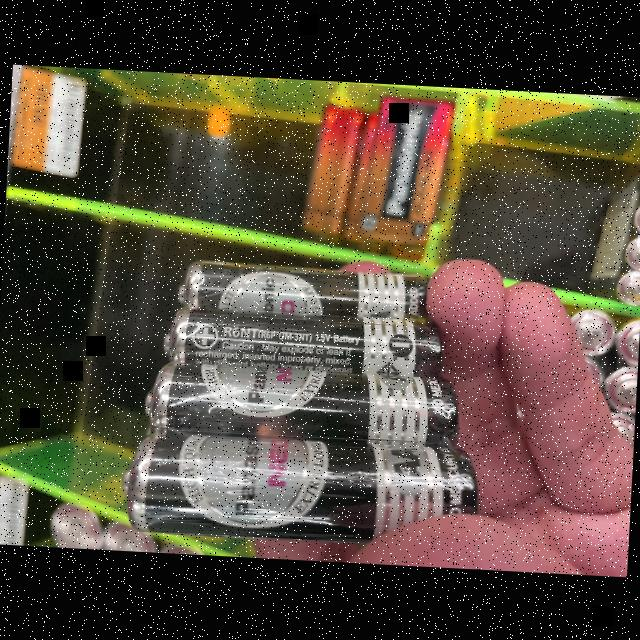battery: (119, 422, 485, 539), (128, 355, 464, 438), (303, 86, 445, 259), (562, 151, 640, 447), (157, 299, 447, 372), (170, 258, 427, 317), (39, 474, 214, 554)
